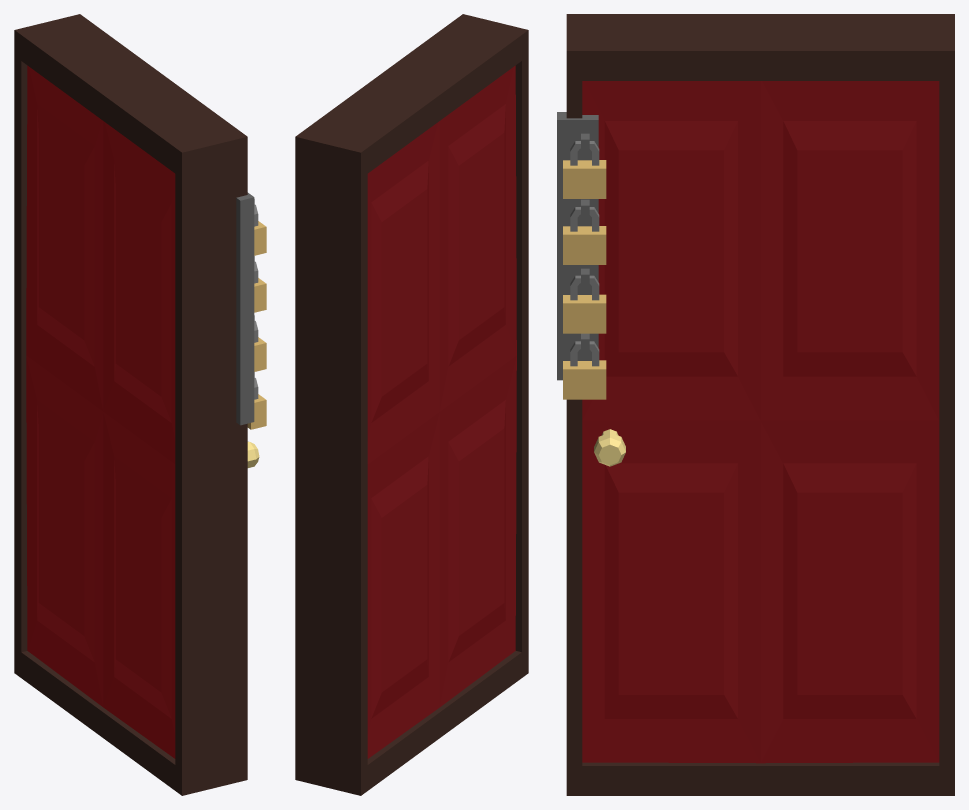
The model's file is Door.fbx.
3 views of the same model, side by side, from view 1: azimuth 30°, elevation 25°; view 2: azimuth 150°, elevation 25°; view 3: azimuth 270°, elevation 25° (orthographic). The views are drawn at different scales.
Parts seen in each view (by area): view 1: Door, Bolt, Locks; view 2: Door; view 3: Door, Locks, Bolt, Handle.
Boxes of the visible parts, x1=… form: Door: x1=14, y1=14, x2=247, y2=795; Bolt: x1=236, y1=192, x2=254, y2=425; Locks: x1=247, y1=204, x2=266, y2=429; Door: x1=295, y1=14, x2=528, y2=795; Door: x1=566, y1=14, x2=954, y2=795; Locks: x1=563, y1=141, x2=606, y2=399; Bolt: x1=557, y1=112, x2=598, y2=380; Handle: x1=594, y1=429, x2=625, y2=466.
Bounding box in the file's own units: 42.25 × 285 × 138.
